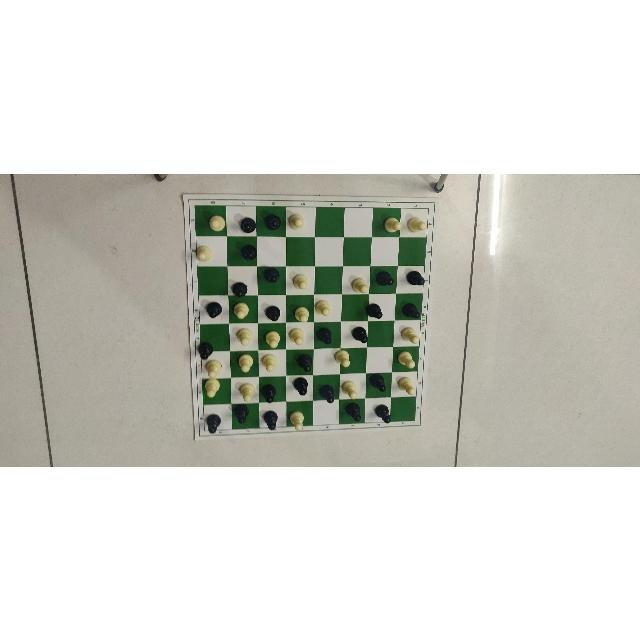black-pawn: (204, 412, 221, 434), (295, 352, 313, 372), (292, 376, 310, 396), (377, 267, 395, 286), (232, 280, 250, 299), (260, 382, 277, 402), (235, 402, 250, 424), (351, 324, 368, 343), (347, 402, 363, 422), (375, 403, 390, 424), (264, 409, 279, 430), (321, 383, 335, 405), (205, 301, 222, 319), (316, 325, 332, 344), (371, 371, 386, 391), (265, 213, 283, 229), (262, 265, 280, 281), (403, 302, 420, 318), (242, 243, 258, 260), (198, 340, 212, 359), (266, 305, 282, 321), (408, 270, 424, 286), (241, 214, 256, 231), (368, 302, 382, 320)
white-pawn: (288, 410, 308, 430), (395, 350, 415, 370), (202, 378, 222, 397), (342, 379, 360, 399), (400, 324, 418, 344), (239, 382, 256, 402), (232, 301, 249, 320), (407, 214, 427, 230), (236, 327, 253, 345), (384, 214, 401, 232), (206, 358, 222, 377), (238, 353, 253, 373), (399, 375, 414, 395), (210, 213, 226, 231), (351, 277, 369, 293), (316, 299, 332, 317), (295, 306, 311, 324), (290, 327, 306, 345), (261, 353, 277, 371), (335, 348, 351, 366), (288, 213, 305, 229), (196, 244, 212, 261), (292, 274, 309, 290), (265, 330, 280, 348)
